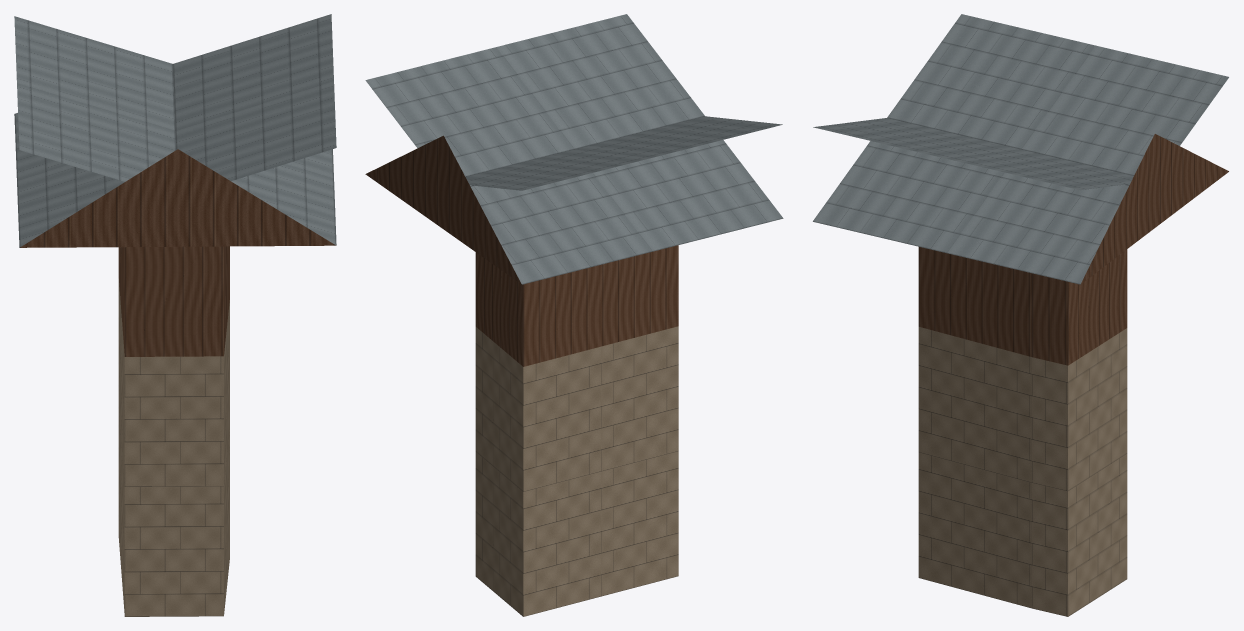
The model's file is bld_c3_-3_554.gltf.
The picture shows the model from 3 angles, left to right: view 1: azimuth 30°, elevation 25°; view 2: azimuth 150°, elevation 25°; view 3: azimuth 270°, elevation 25°; orthographic projection. The views are drawn at different scales.
Visible parts, largest first — view 1: bld_c3_-3_554; view 2: bld_c3_-3_554; view 3: bld_c3_-3_554.
Part boxes in pixels (x1,y1,x2,y2): bld_c3_-3_554: (14, 14, 336, 616); bld_c3_-3_554: (365, 14, 783, 616); bld_c3_-3_554: (813, 14, 1228, 616).
Size of the model in its own units: 6.8 by 8.6 by 6.8.
Materials: 4 (4 with a texture image).
